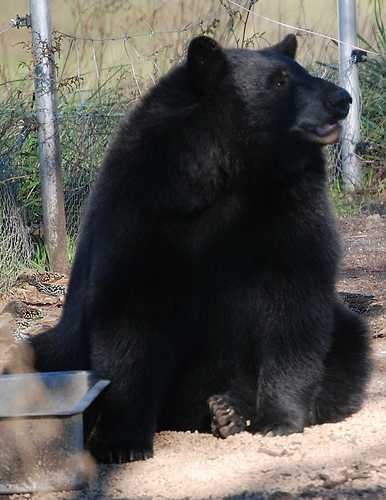bear: (223, 34, 351, 162)
